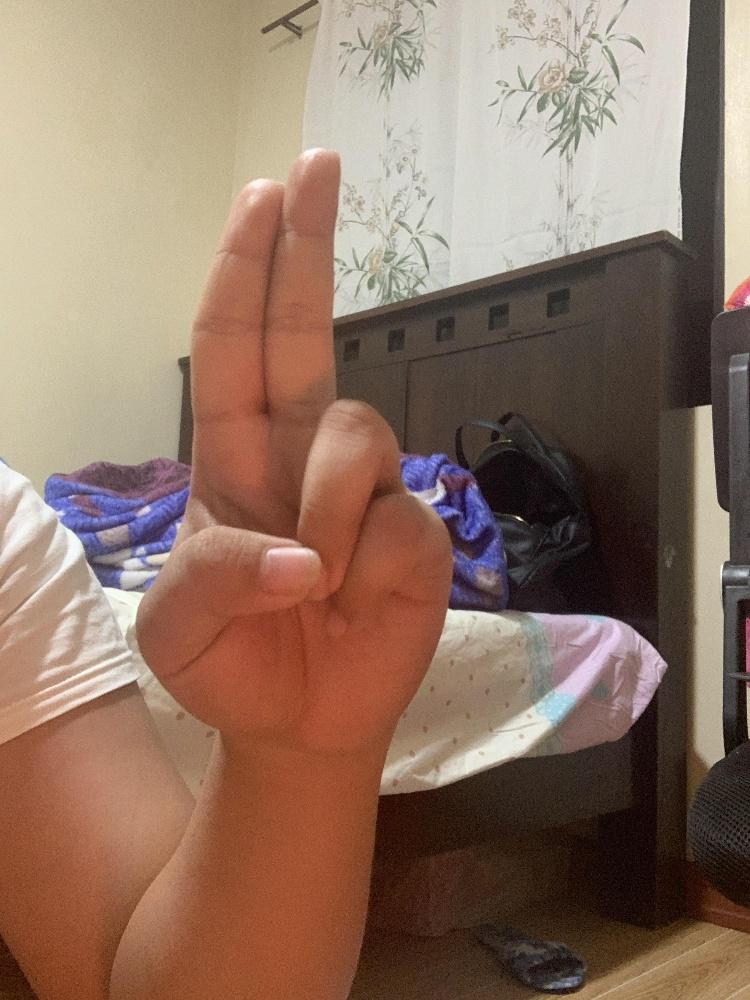u: (132, 146, 455, 750)
